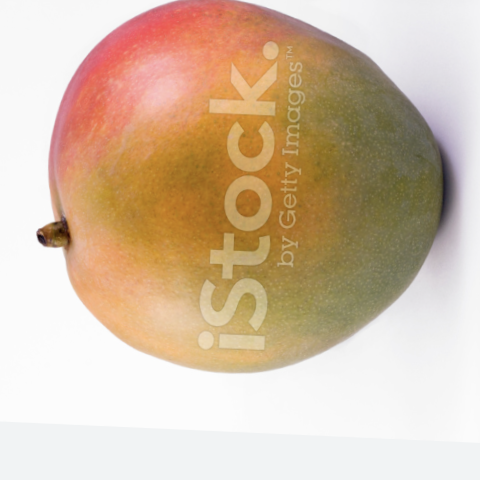mango: (11, 0, 480, 410)
